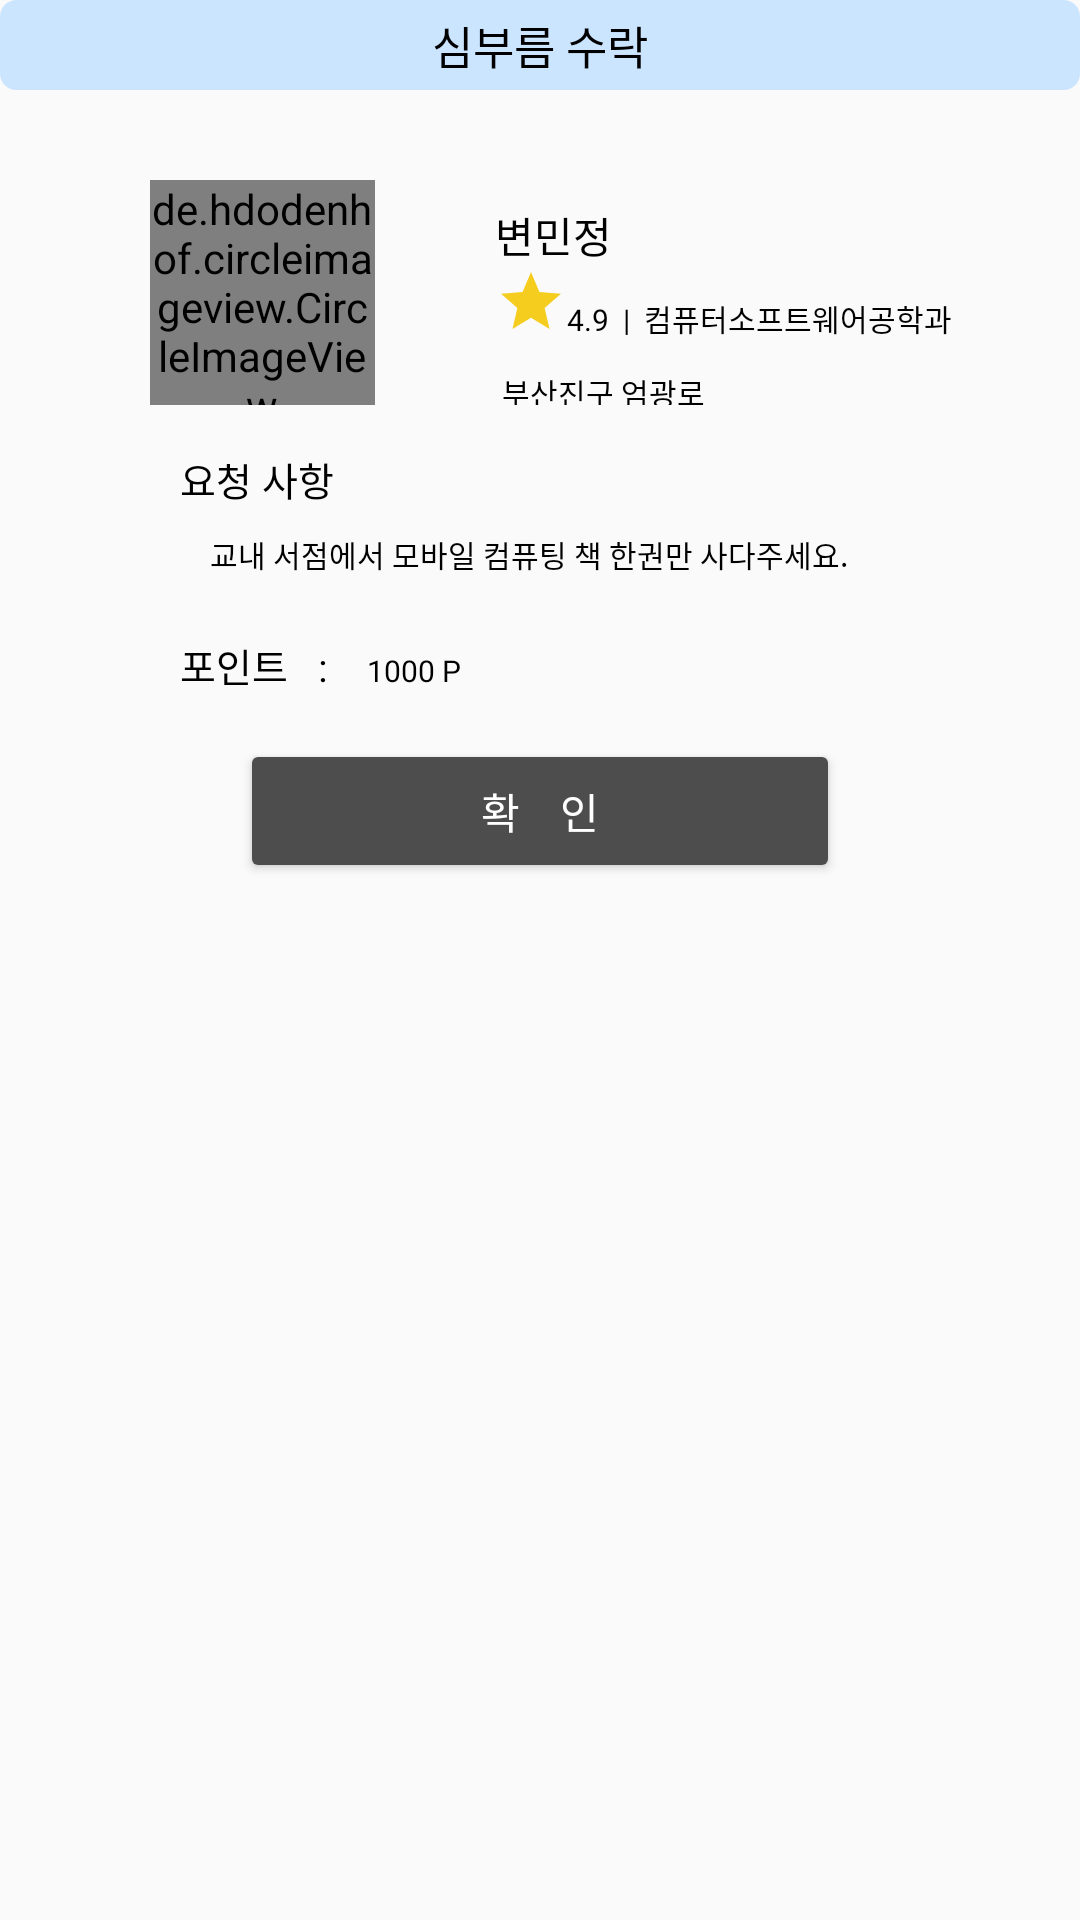

Locate icon controls on the screen. Image size 1080*1920, boxes as region(x1, y1, x2, y2).
star: region(501, 272, 561, 329)
